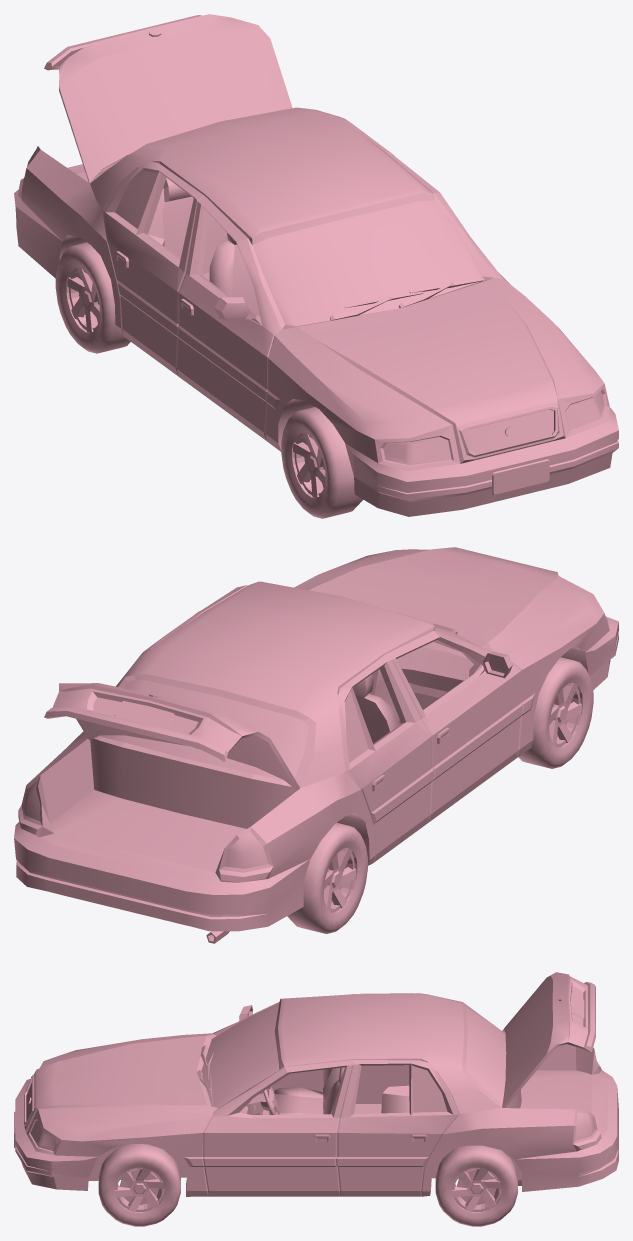
File: SedanGarage.fbx
3 renders of one model, top to bottom at view 1: azimuth 30°, elevation 25°; view 2: azimuth 150°, elevation 25°; view 3: azimuth 270°, elevation 25°, orthographic. The views are drawn at different scales.
Visible parts, largest first — view 1: SedanGarage; view 2: SedanGarage; view 3: SedanGarage.
Part boxes in pixels (x1,y1,x2,y2): SedanGarage: (14,14,618,518); SedanGarage: (14,547,618,943); SedanGarage: (14,972,618,1226).
Size of the model in its own units: 206 by 174 by 517.
